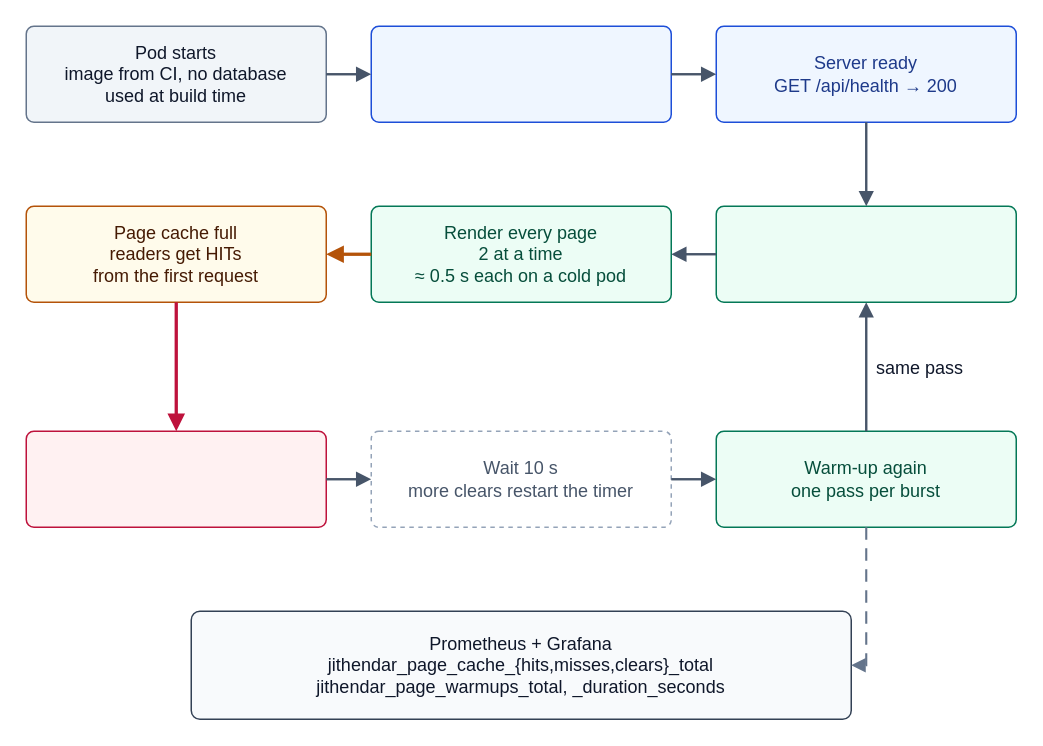
The diagram is 1043 pixels wide and 746 high, and some of its shapes have lost their labels. Each missing label, with the box of its shape:
Cache cleared publish, edit, settings (this pod or another): (25, 430, 326, 527)
instrumentation.ts migrations, cache bus, content cache warm-up: (370, 25, 671, 122)
Warm-up GET /sitemap.xml on 127.0.0.1 + feeds, search index: (715, 205, 1016, 302)
